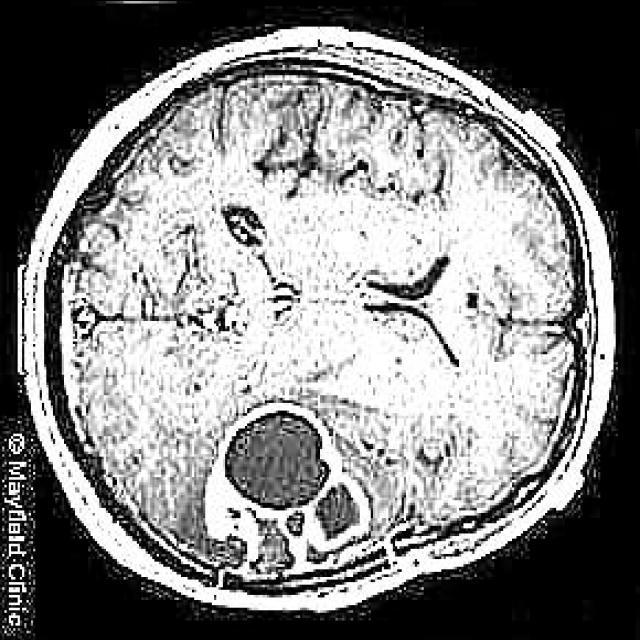tumor: (221, 402, 358, 545)
